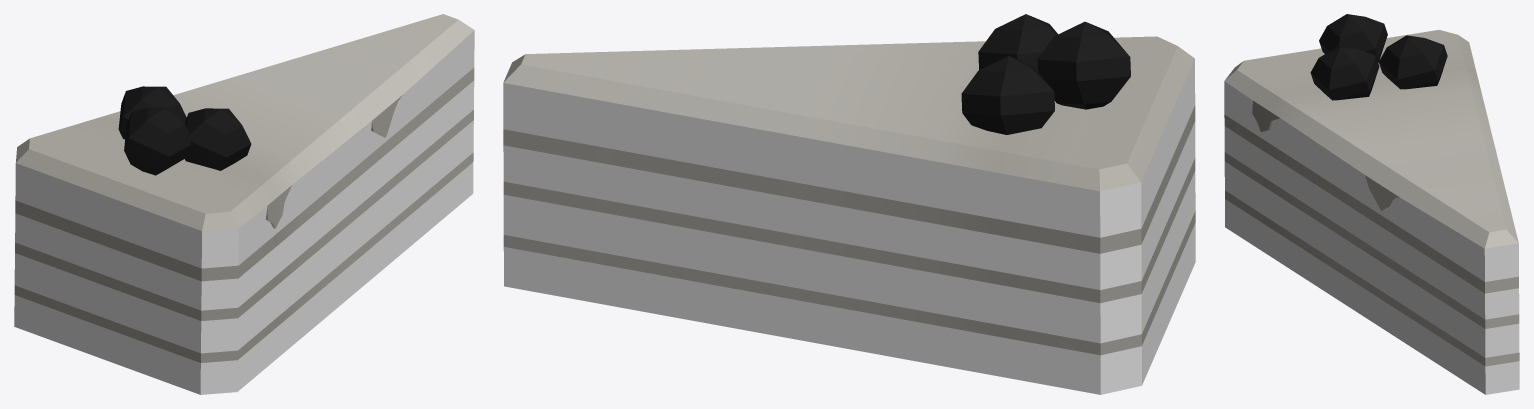
Rendered from Cake.fbx.
3 views of the same model, side by side, from view 1: azimuth 30°, elevation 25°; view 2: azimuth 150°, elevation 25°; view 3: azimuth 270°, elevation 25° (orthographic). The views are drawn at different scales.
Parts seen in each view (by area): view 1: Cake; view 2: Cake; view 3: Cake.
Part boxes in pixels (x1,y1,x2,y2): Cake: [14, 14, 474, 394]; Cake: [503, 14, 1195, 394]; Cake: [1224, 14, 1519, 394].
Bounding box in the file's own units: 11.54 × 5.36 × 6.81.
